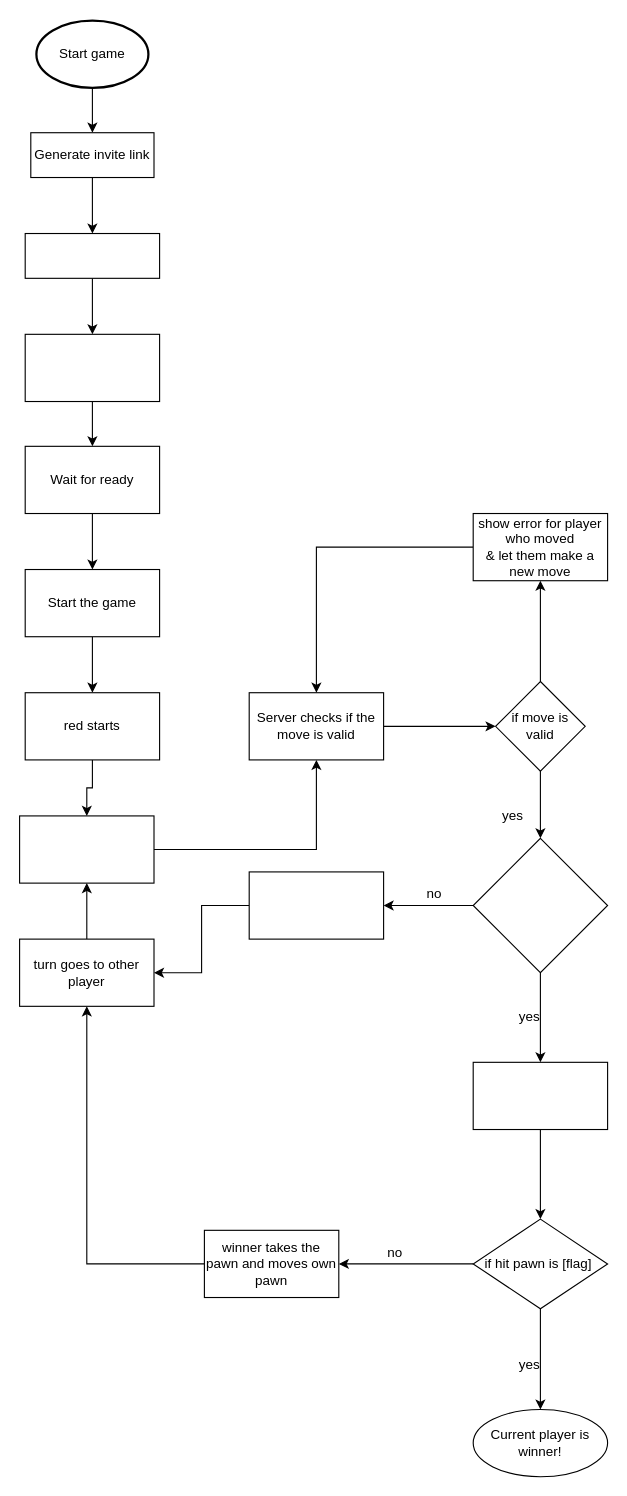
Some shapes in this 627 by 1496 pixel diagram are drawn without their labels. The centre of each missing label's shape, as x and y in pixels:
"check who wins" goes at (x=540, y=1095).
"does move hit a pawn?" goes at (x=540, y=905).
"Let players make their setup" goes at (x=92, y=367).
"player makes a move" goes at (x=86, y=849).
"show the move for both players" goes at (x=316, y=905).
"Wait for other player" goes at (x=92, y=255).
